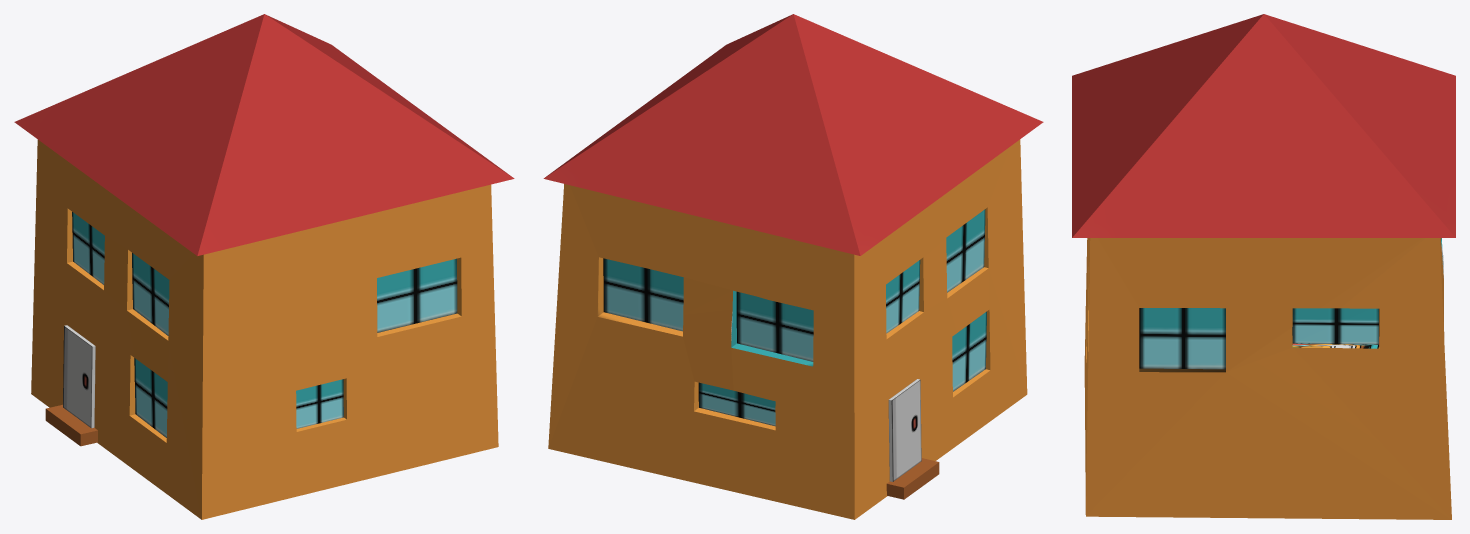
File: basic house.fbx
The picture shows the model from 3 angles, left to right: view 1: azimuth 30°, elevation 25°; view 2: azimuth 150°, elevation 25°; view 3: azimuth 270°, elevation 25°; orthographic projection. The views are drawn at different scales.
Visible parts, largest first — view 1: Cube; view 2: Cube; view 3: Cube.
Boxes of the visible parts, left/top/right/bottom form: Cube: left=14, top=14, right=514, bottom=519; Cube: left=543, top=14, right=1043, bottom=519; Cube: left=1072, top=14, right=1455, bottom=519.
Bounding box in the file's own units: 228 × 273 × 223.
Materials: 1 (1 with a texture image).
